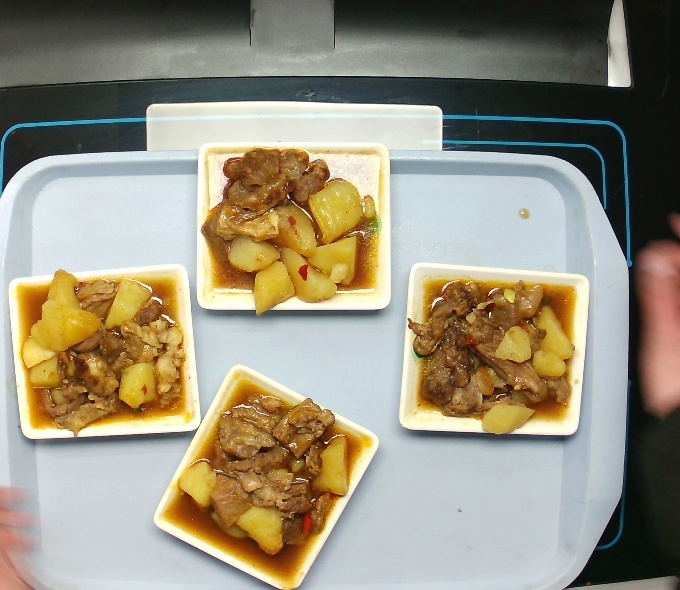wcq-TuDouNiuNan: (188, 395, 361, 565), (208, 147, 381, 317), (16, 267, 189, 437), (415, 274, 583, 435)
